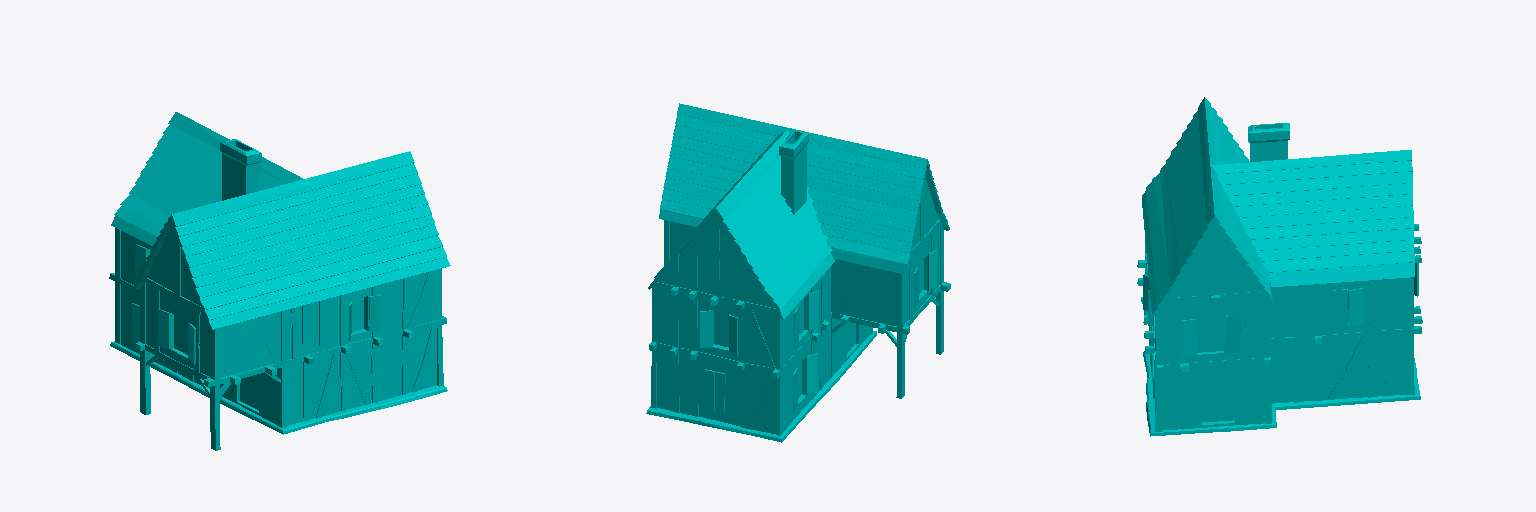
File: casa_pobre.obj
3 renders of one model, left to right at view 1: azimuth 30°, elevation 25°; view 2: azimuth 150°, elevation 25°; view 3: azimuth 270°, elevation 25°, orthographic.
Parts seen in each view (by area): view 1: casa1_Mesh_Box291; view 2: casa1_Mesh_Box291; view 3: casa1_Mesh_Box291.
Boxes of the visible parts, x1,y1,x2,y2 form: casa1_Mesh_Box291: [109, 112, 450, 450]; casa1_Mesh_Box291: [646, 103, 950, 442]; casa1_Mesh_Box291: [1137, 97, 1422, 436].
Size of the model in its own units: 4.89 by 4.26 by 4.62.